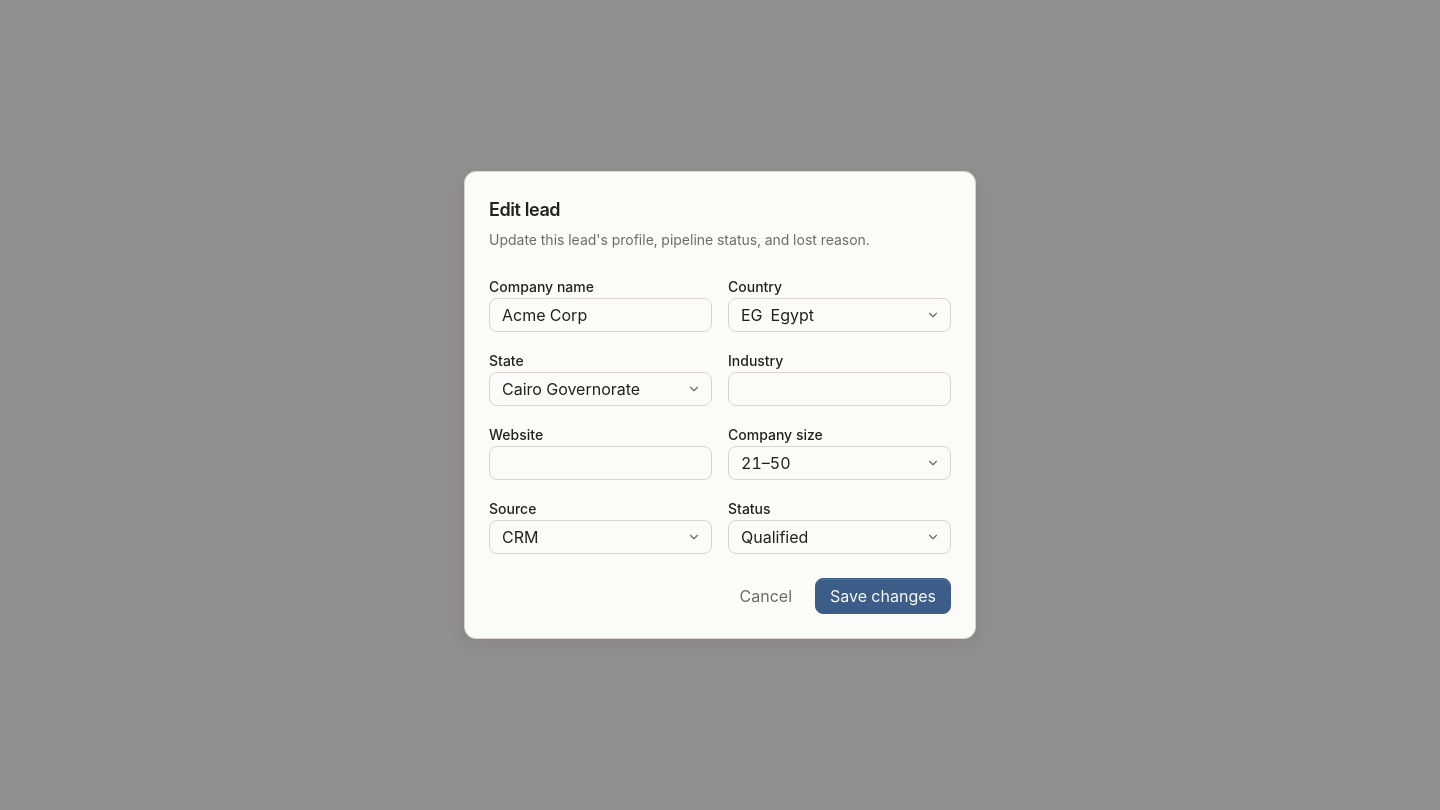
Test: EditLeadModal › limits status options to valid transitions when override is disabled
Expected: the dropdown named "country" shows "Egypt", [728,298,951,332]
Click the dropdown named "status" at coordinates (840, 537), box [728,520,951,554]
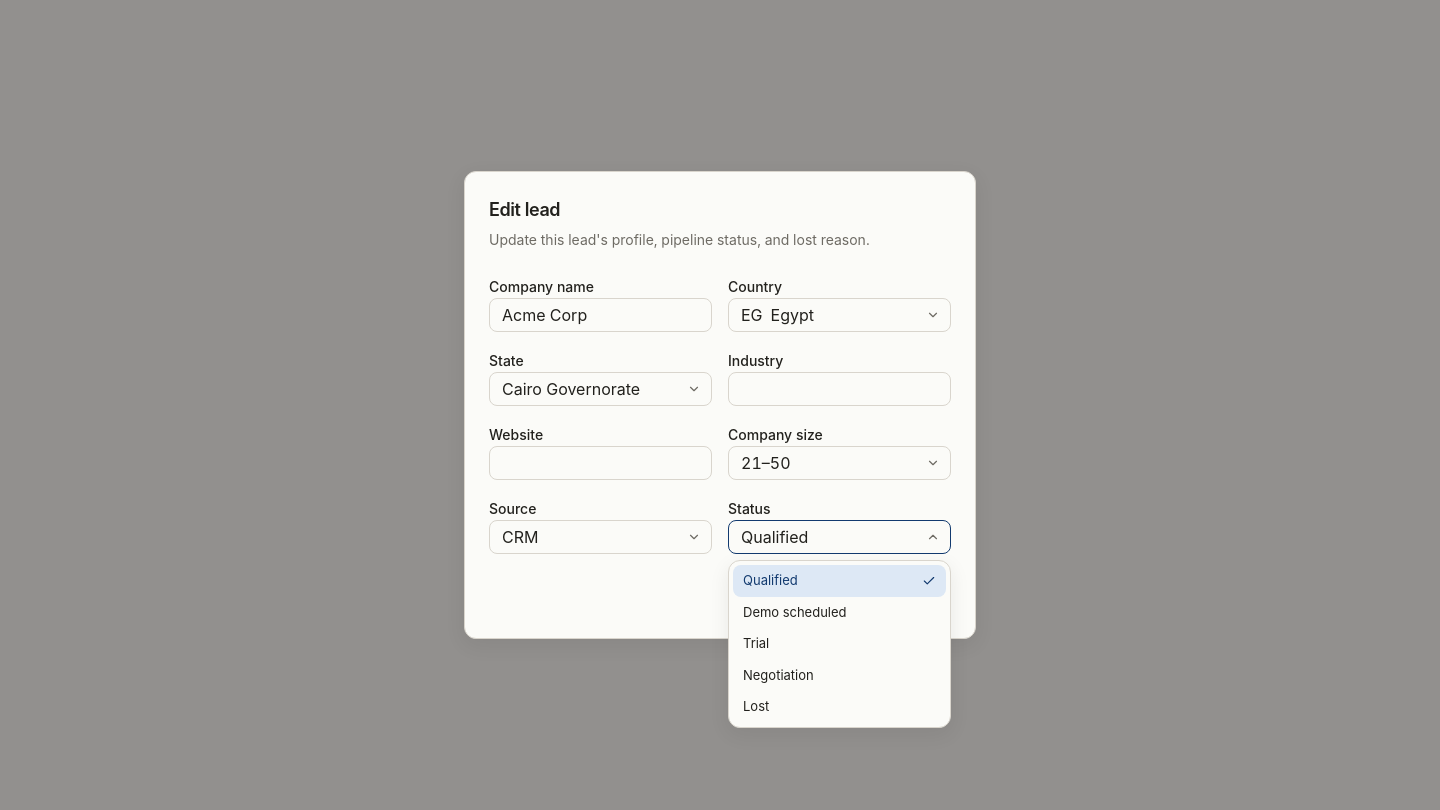
Expected: the option "Qualified" is shown, [733,565,946,596]
Expected: the option "Demo scheduled" is shown, [743,604,846,620]
Expected: the option "Trial" is shown, [743,635,769,651]
